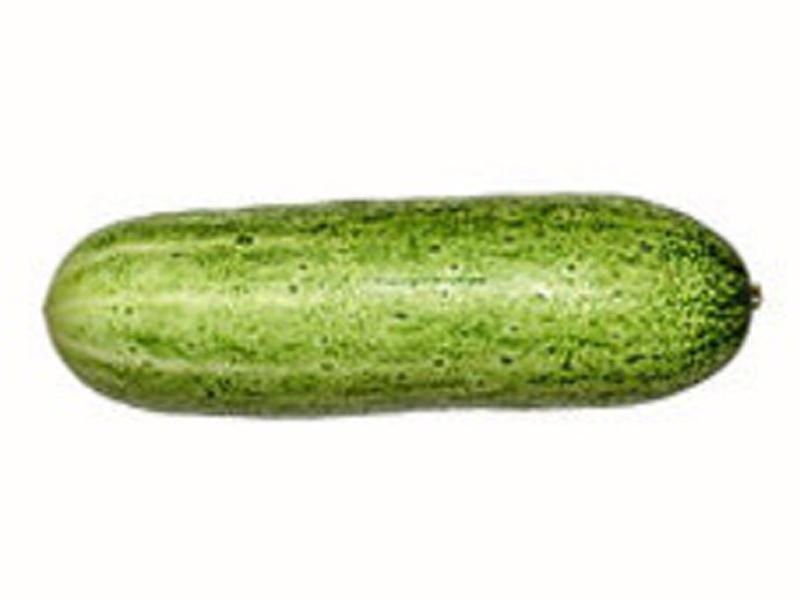Cucumber: (42, 196, 761, 412)
